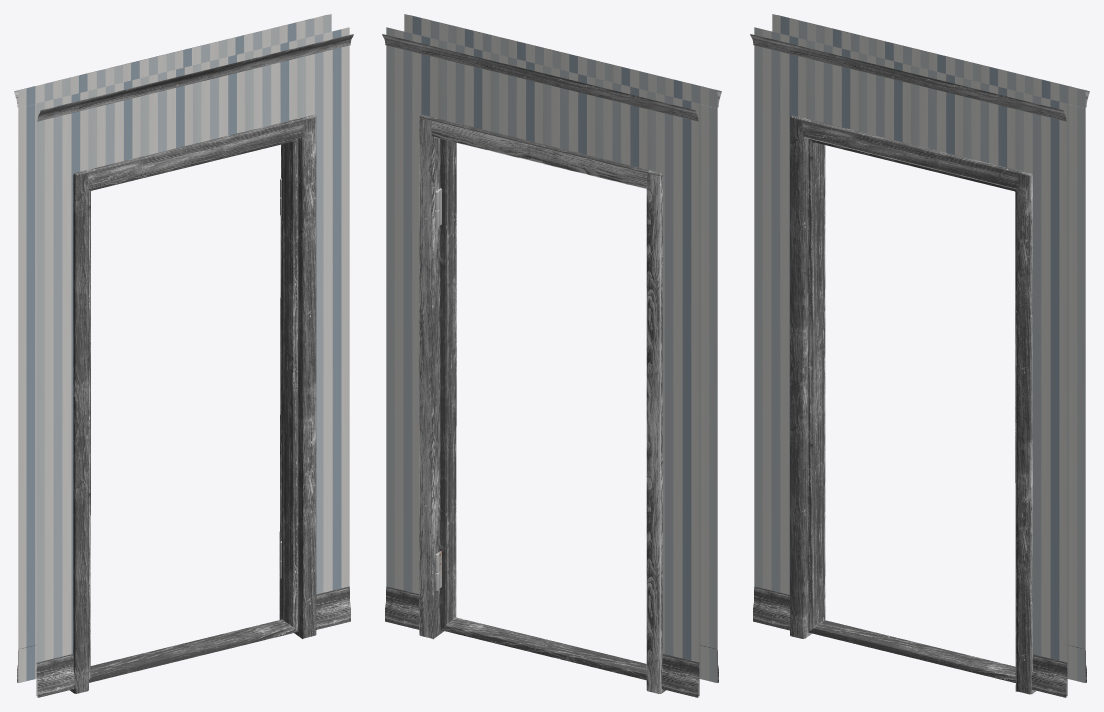
Rendered from SM_Frame_Inside_200.fbx.
3 renders of one model, left to right at view 1: azimuth 30°, elevation 25°; view 2: azimuth 150°, elevation 25°; view 3: azimuth 330°, elevation 25°, orthographic.
Parts seen in each view (by area): view 1: SM_Frame_Inside_200; view 2: SM_Frame_Inside_200; view 3: SM_Frame_Inside_200.
Boxes of the visible parts, x1,y1,x2,y2 form: SM_Frame_Inside_200: (14, 14, 353, 697); SM_Frame_Inside_200: (382, 14, 721, 697); SM_Frame_Inside_200: (750, 14, 1089, 697).
Size of the model in its own units: 140 by 20.33 by 256.
Materials: 3 (3 with a texture image).
